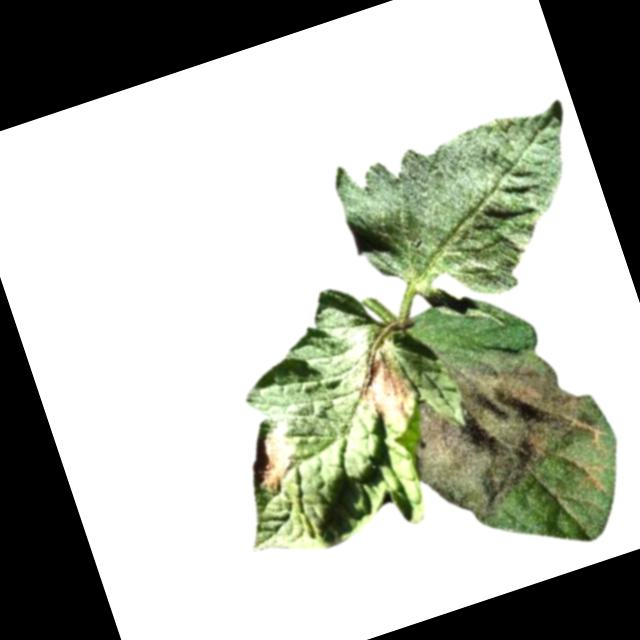Late_blight: (381, 307, 640, 545), (347, 347, 419, 433), (243, 427, 304, 495)
healthy: (328, 92, 612, 334)
